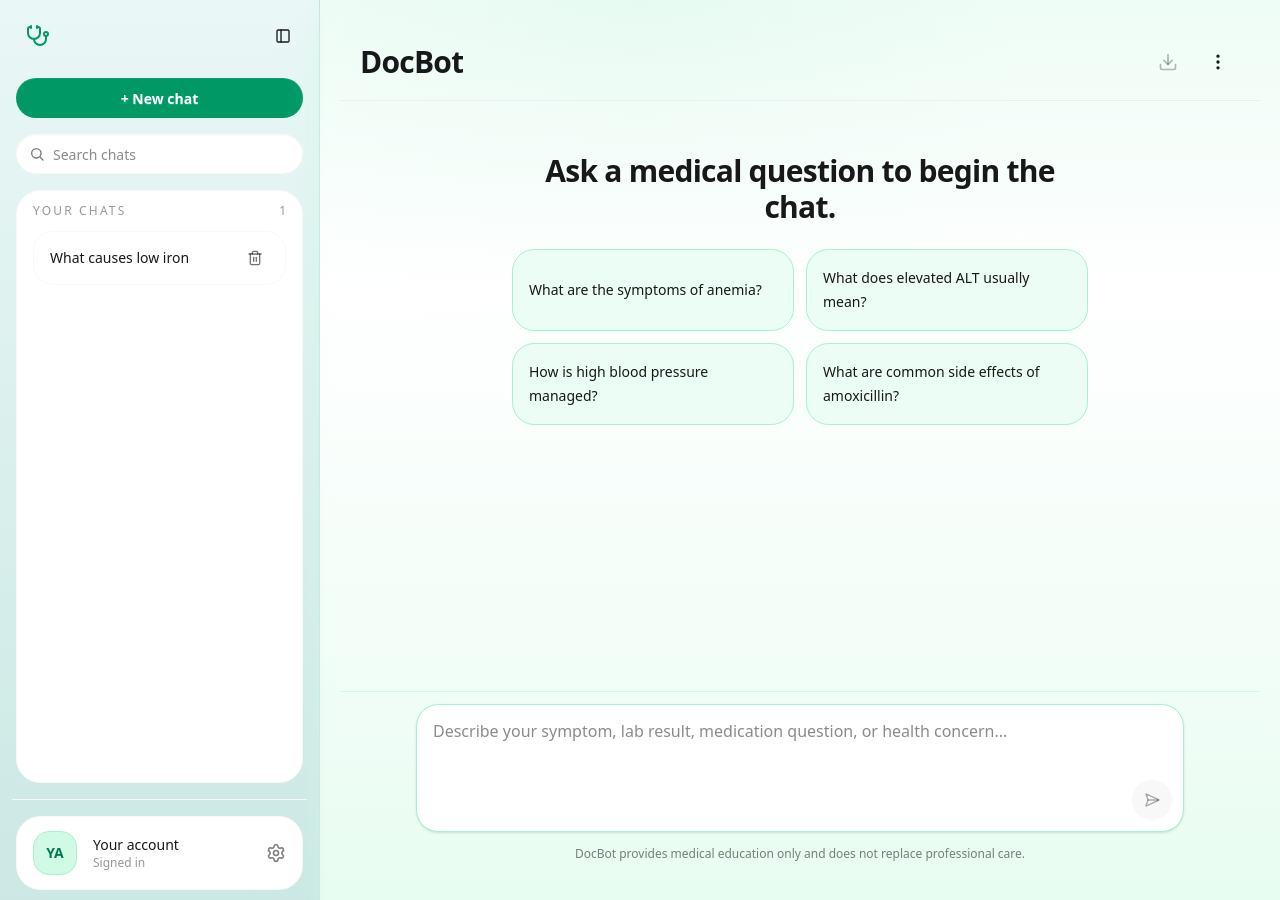
Test: chat shell › shows the user message immediately after submit
This screenshot has width=1280, height=900.
Type "What causes low iron?" into the text box with placeholder "Describe your symptom, lab result, medication question, or health concern" at (800, 768), box x1=416 y1=704 x2=1184 y2=832
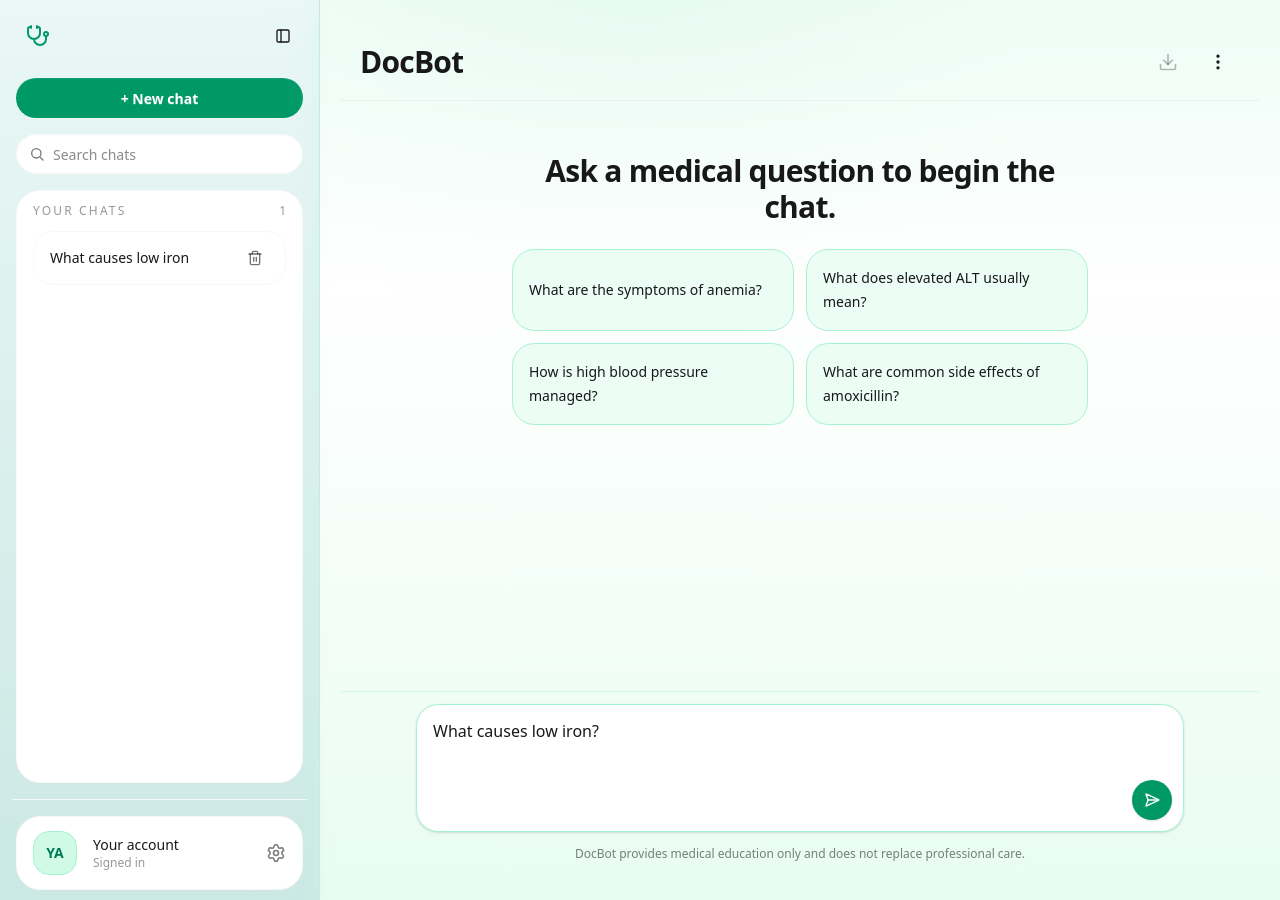
Click the button named "send message" at (1152, 800), box x1=1132 y1=780 x2=1172 y2=820
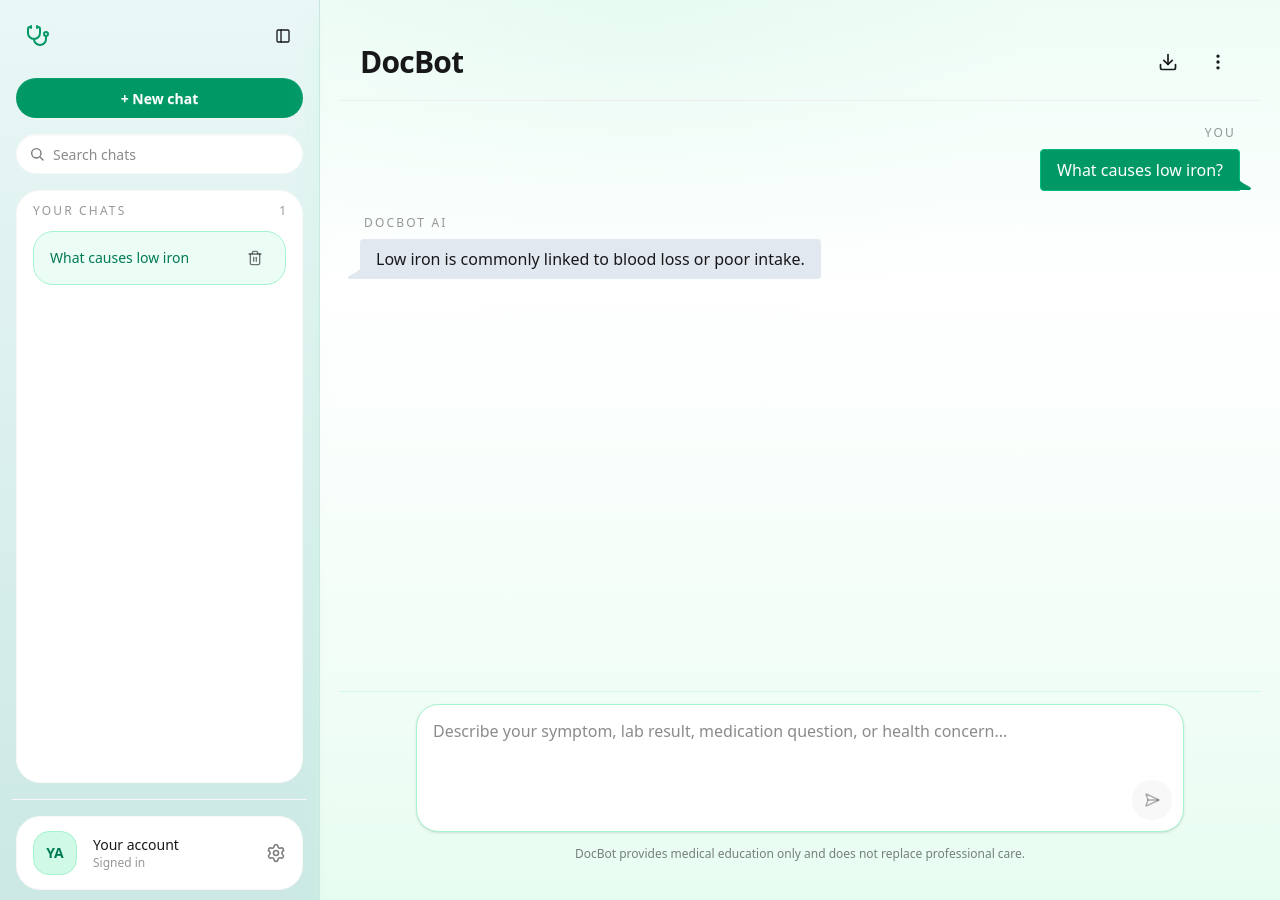
expect the text "What causes low iron?" is shown: met, box x1=1040 y1=149 x2=1240 y2=191
expect the text "Low iron is commonly linked to blood loss or poor intake." is shown: met, box x1=360 y1=239 x2=821 y2=279
